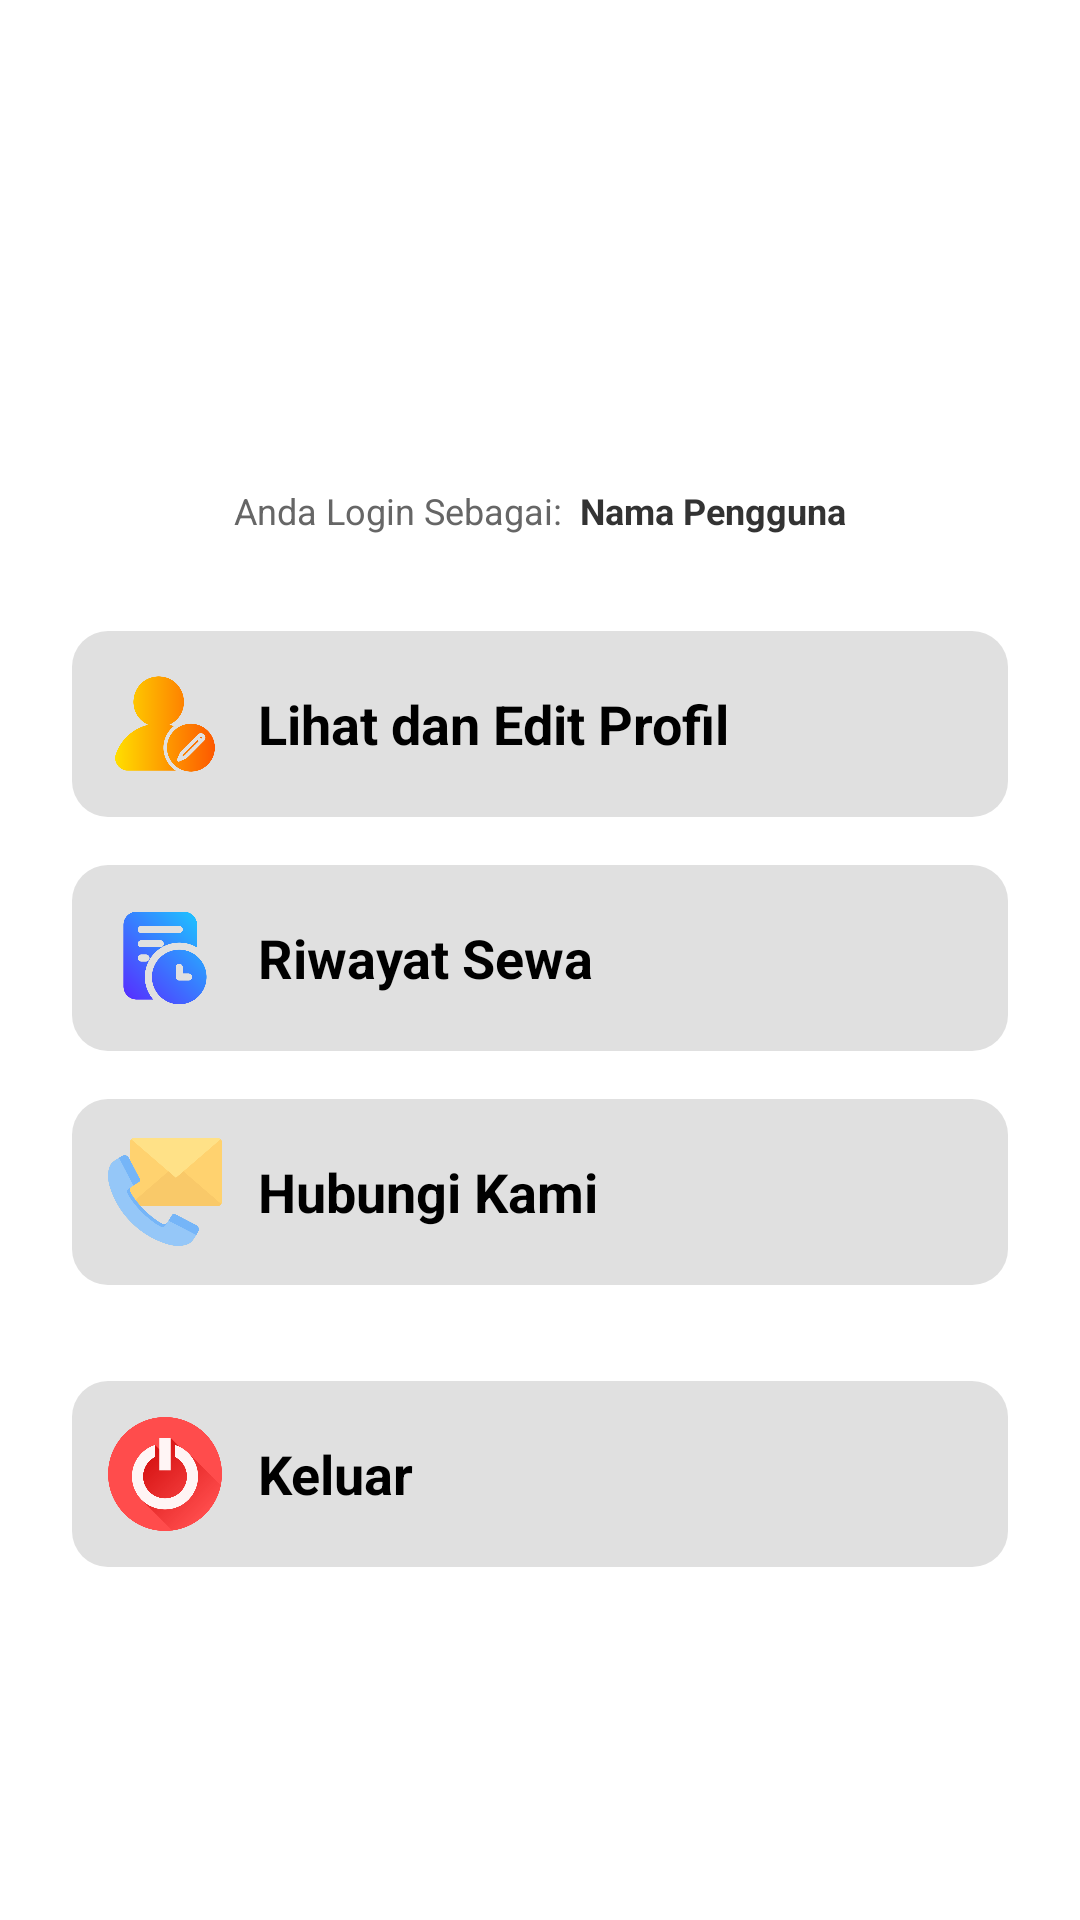

Named icons in this screenshot (1080 x 1920) and their centers, [x,y]:
contact us: [165,1192]
history: [165,958]
